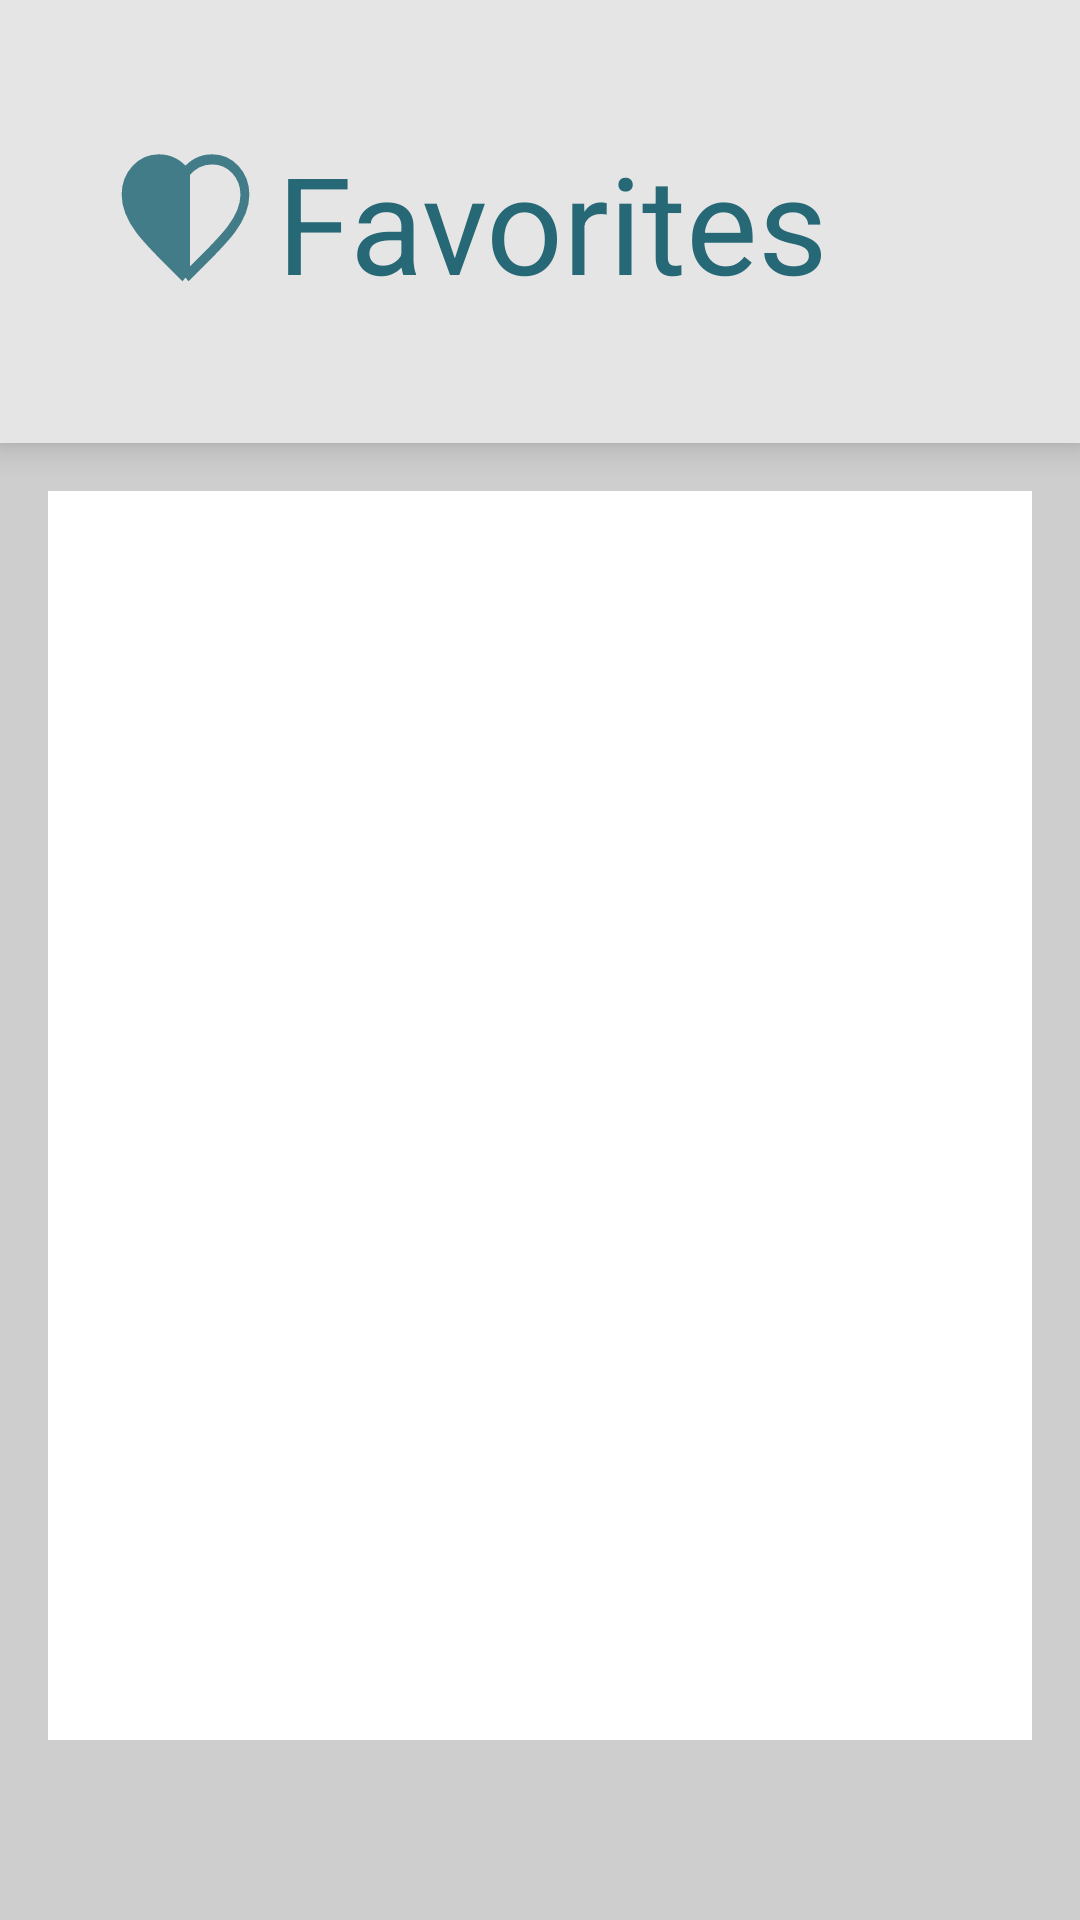

Point at icon controls on the screen. Image size 1080px×1920px, points as point (x, y).
fav fragment: point (185, 217)
